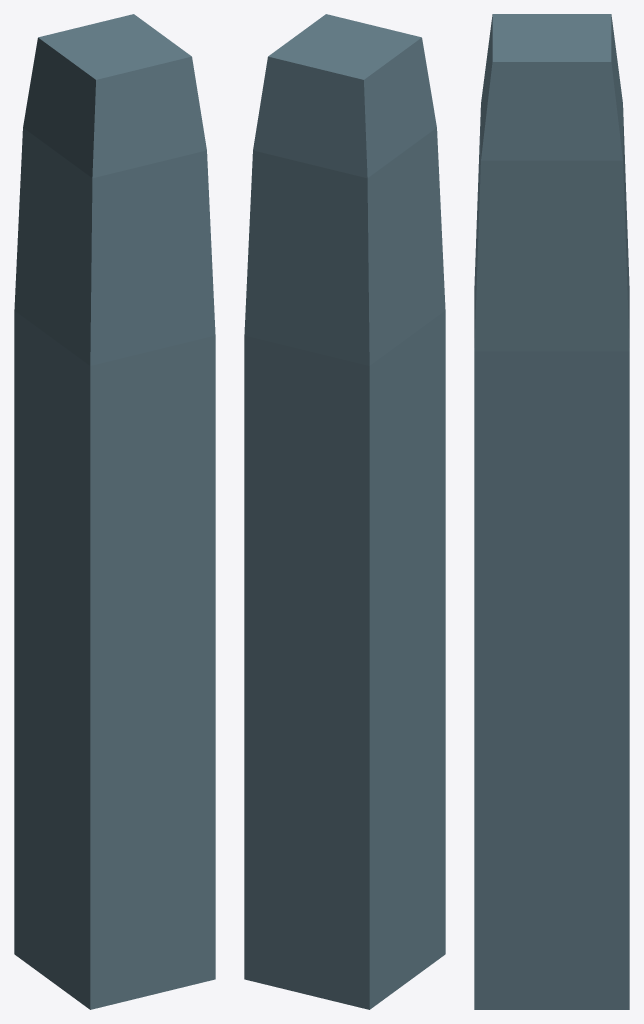
The model's file is guomao3-far-3633592276.glb.
The picture shows the model from 3 angles, left to right: view 1: azimuth 30°, elevation 25°; view 2: azimuth 150°, elevation 25°; view 3: azimuth 270°, elevation 25°; orthographic projection. The views are drawn at different scales.
Parts seen in each view (by area): view 1: guomao3 coarse.001; view 2: guomao3 coarse.001; view 3: guomao3 coarse.001.
Part boxes in pixels (<box>): guomao3 coarse.001: <box>14,14,215,1009</box>; guomao3 coarse.001: <box>244,14,445,1009</box>; guomao3 coarse.001: <box>474,14,629,1009</box>.
Bounding box in the file's own units: 47 × 330 × 49.35.
